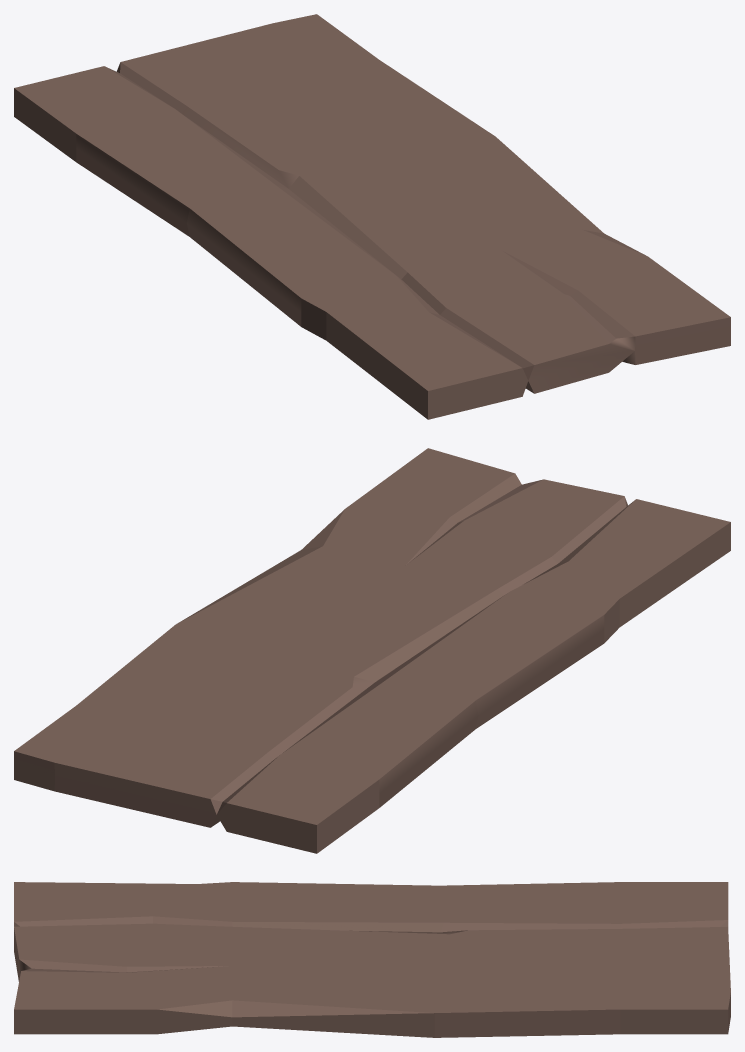
Rendered from WoodPlank.fbx.
3 views of the same model, one above another, from view 1: azimuth 30°, elevation 25°; view 2: azimuth 150°, elevation 25°; view 3: azimuth 270°, elevation 25° (orthographic). The views are drawn at different scales.
Parts seen in each view (by area): view 1: WoodPlank; view 2: WoodPlank; view 3: WoodPlank.
Boxes of the visible parts, bbox=[...] form: WoodPlank: bbox=[14, 14, 730, 419]; WoodPlank: bbox=[14, 448, 730, 853]; WoodPlank: bbox=[14, 882, 730, 1037].
Size of the model in its own units: 2.07 by 0.1823 by 4.77.
